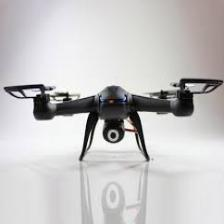drone: (0, 68, 224, 159)
